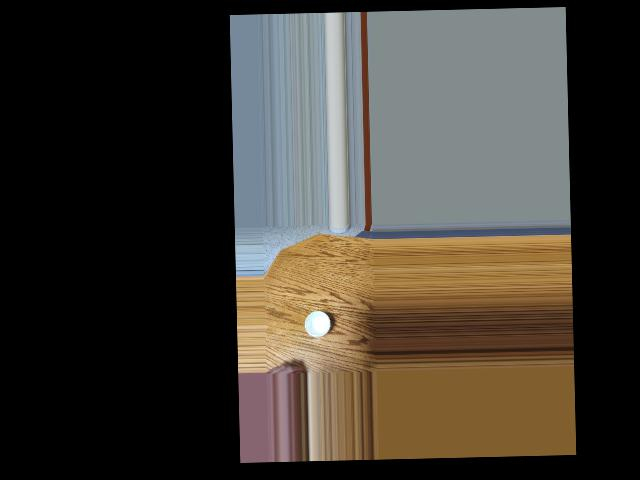cotage: (300, 308, 330, 342)
